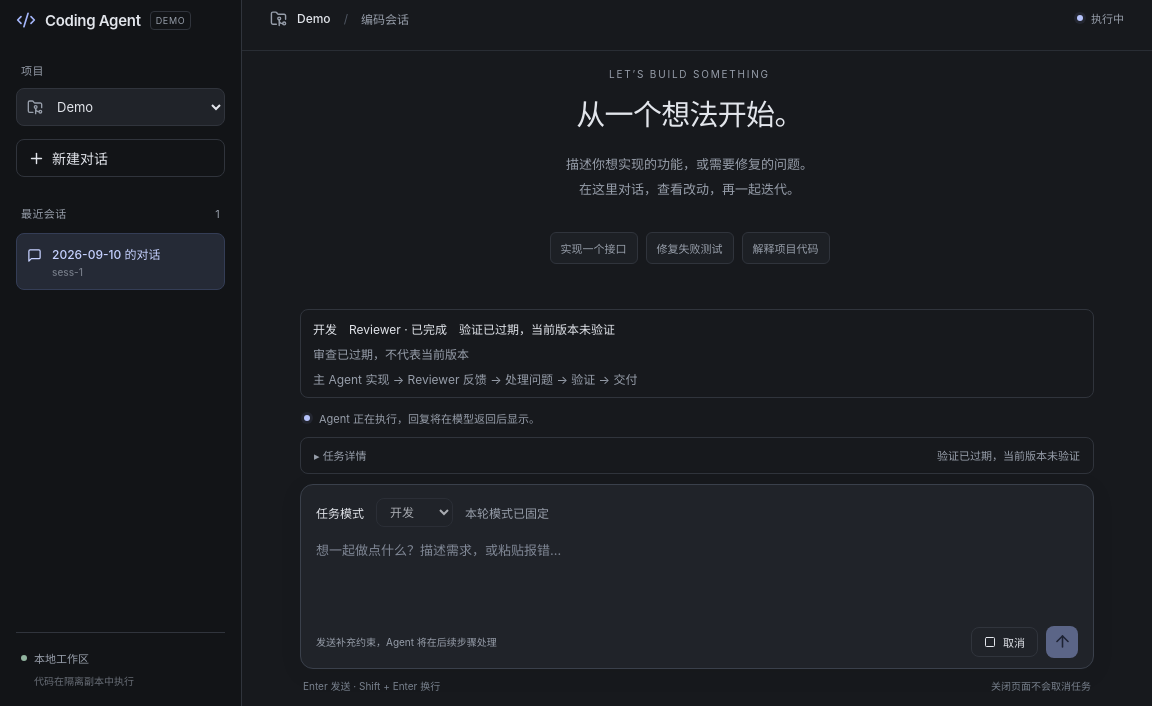
Test: task modes and review collaboration › reconnects review events without duplicating rounds or accepting another run's result
(page scrolled)
Step 1. Click the button "▸ 任务详情 验证已过期，当前版本未验证" → click(343, 456), box [301,438,1093,472]
(page scrolled)
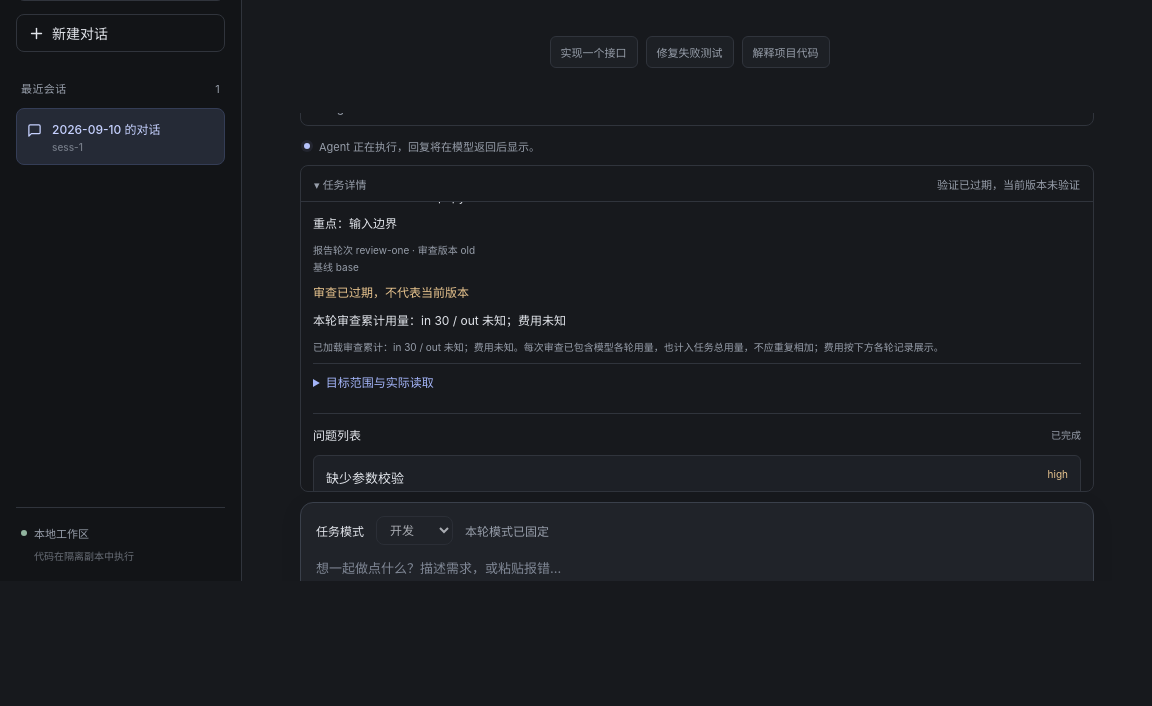
Check: the text "已加载审查累计" shows "in 30 / out 未知", box [393,341,514,353]
